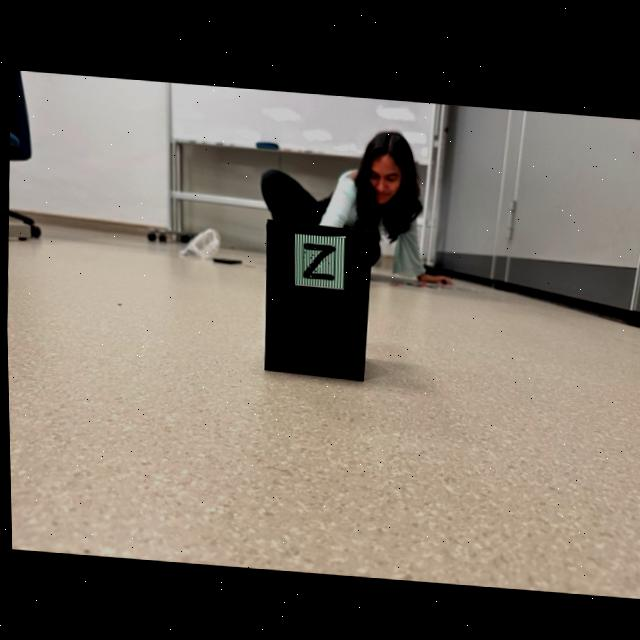Z: (303, 241, 333, 277)
